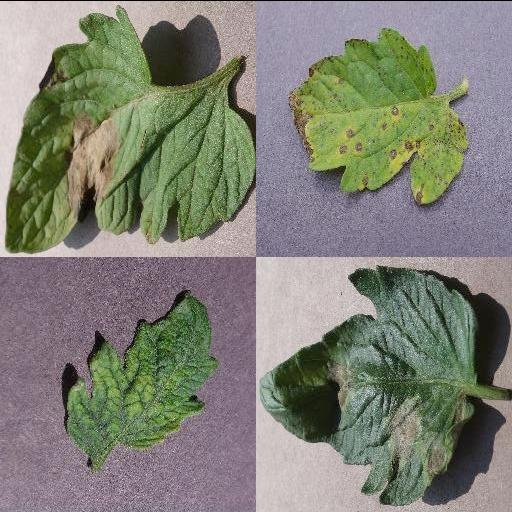Late Blight: (4, 5, 256, 253), (258, 263, 478, 507)
Mosaic Virus: (63, 291, 219, 455)
Septoria: (286, 26, 468, 205)
